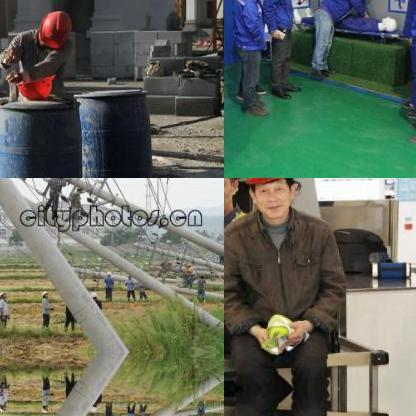Helmet: (243, 178, 303, 217), (34, 7, 74, 48), (0, 287, 7, 300), (0, 401, 7, 414), (40, 288, 46, 300), (90, 288, 96, 300), (40, 400, 46, 412), (90, 400, 96, 412), (105, 268, 111, 278), (54, 178, 64, 180)
